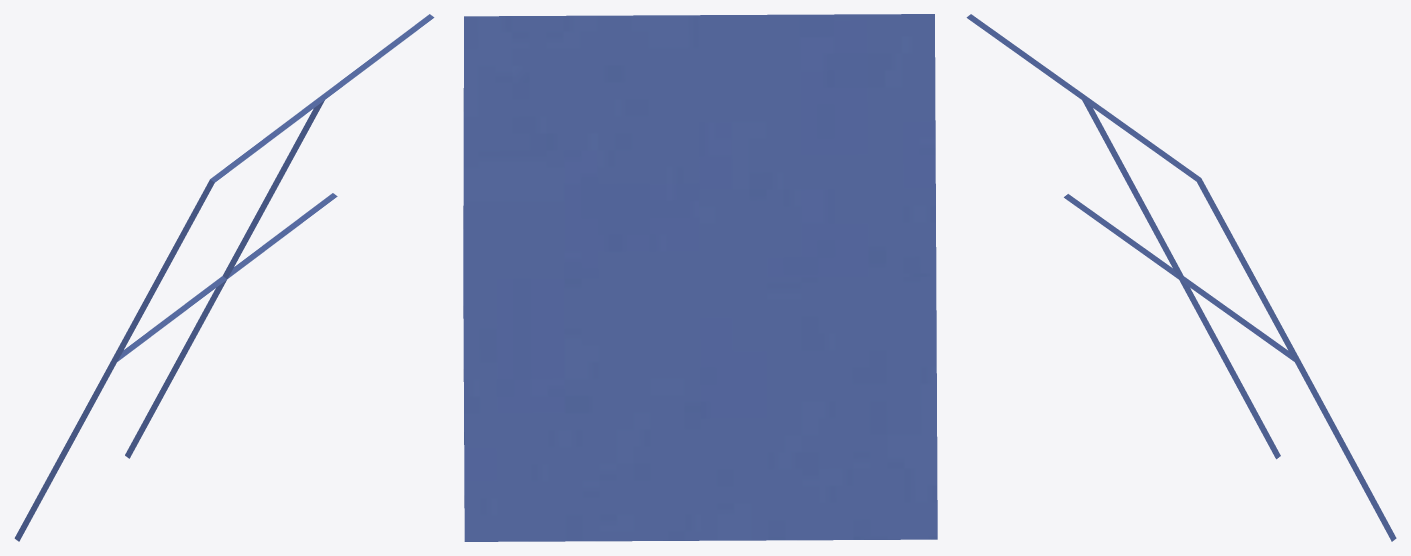
3 renders of one model, left to right at view 1: azimuth 30°, elevation 25°; view 2: azimuth 150°, elevation 25°; view 3: azimuth 270°, elevation 25°, orthographic. The views are drawn at different scales.
Bounding box in the file's own units: 19699 × 17635 × 16743.
Materials: 1 (1 with a texture image).
